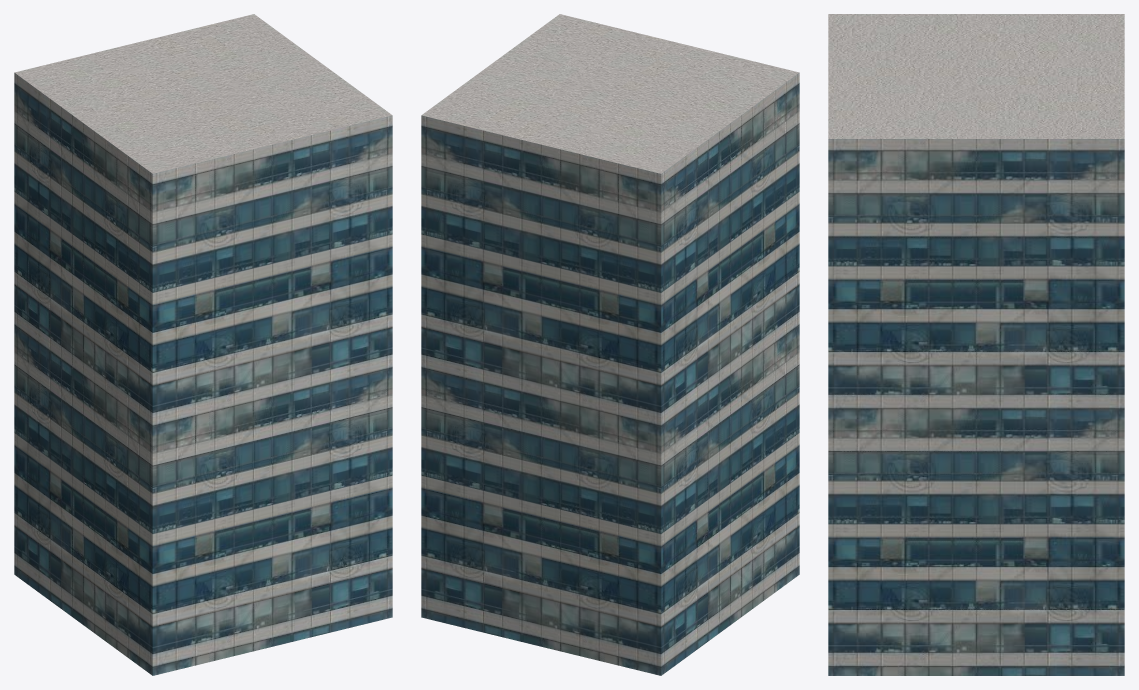
3 views of the same model, side by side, from view 1: azimuth 30°, elevation 25°; view 2: azimuth 150°, elevation 25°; view 3: azimuth 270°, elevation 25° (orthographic). The views are drawn at different scales.
Parts seen in each view (by area): view 1: building23_1, building23_1_cell.001, building23_1_cell.002, building23_1_cell; view 2: building23_1, building23_1_cell.002, building23_1_cell.001, building23_1_cell; view 3: building23_1, building23_1_cell.001, building23_1_cell.
Part boxes in pixels (<box>): building23_1: <box>14,73,392,675</box>; building23_1_cell.001: <box>14,14,392,468</box>; building23_1_cell.002: <box>14,123,282,675</box>; building23_1_cell: <box>263,454,392,639</box>; building23_1: <box>421,73,799,675</box>; building23_1_cell.002: <box>520,112,799,675</box>; building23_1_cell.001: <box>421,14,799,472</box>; building23_1_cell: <box>421,444,548,622</box>; building23_1: <box>828,139,1124,675</box>; building23_1_cell.001: <box>828,14,1124,487</box>; building23_1_cell: <box>828,488,1124,675</box>.
Bounding box in the file's own units: 2.25 × 4.5 × 2.25.
2 materials, 2 textured.
